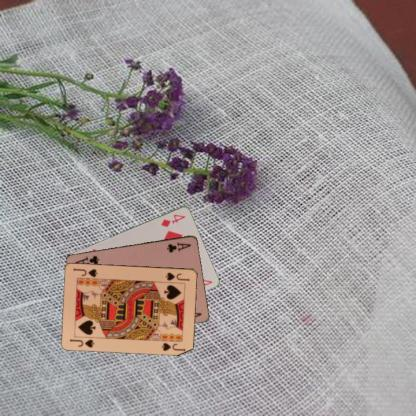4d: (158, 212, 187, 228)
Ac: (165, 239, 192, 254)
Js: (163, 269, 191, 283), (68, 336, 96, 348)
